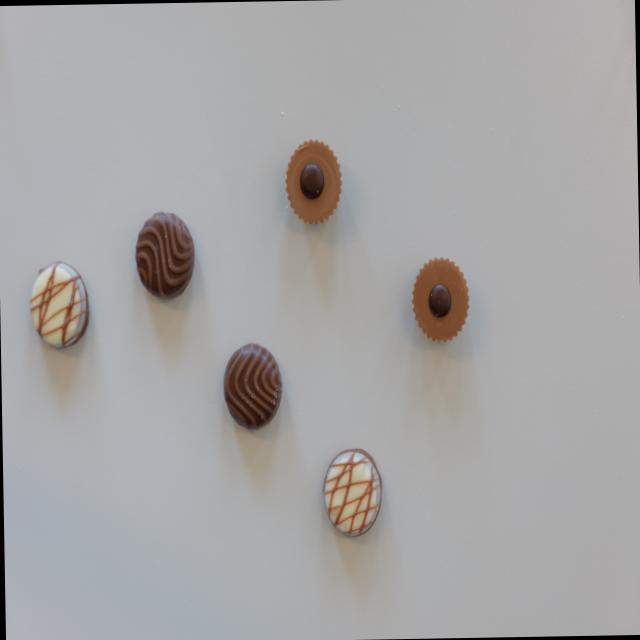Creme_brulee: (321, 450, 382, 538), (28, 261, 88, 349)
Noblesse: (410, 254, 469, 344), (284, 137, 342, 226)
Noir_authentique: (135, 210, 196, 299), (222, 344, 282, 430)
